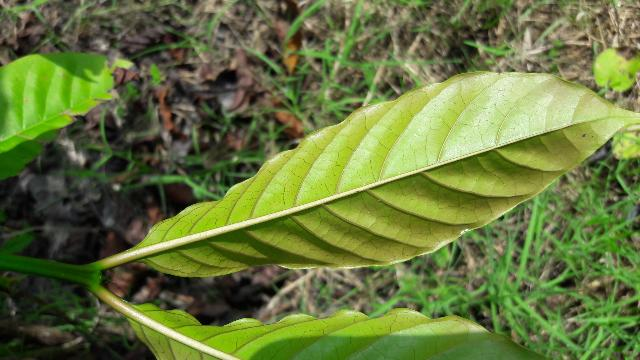healthy: (120, 70, 640, 276)
